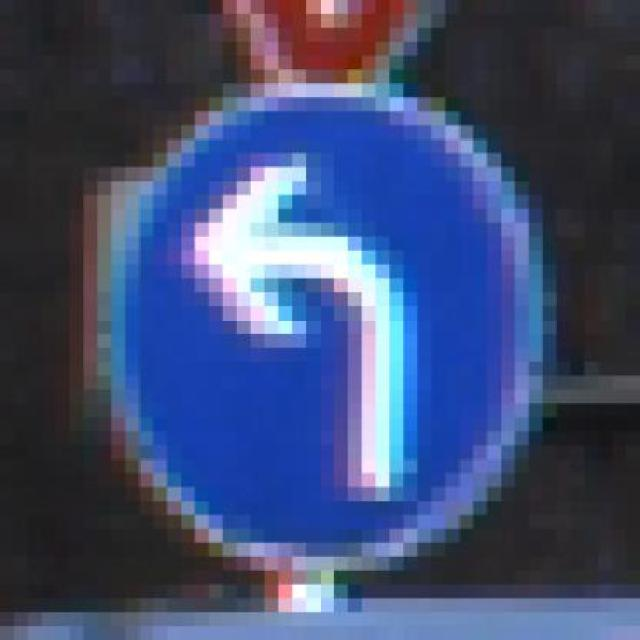Turn left ahead: (83, 69, 571, 571)
